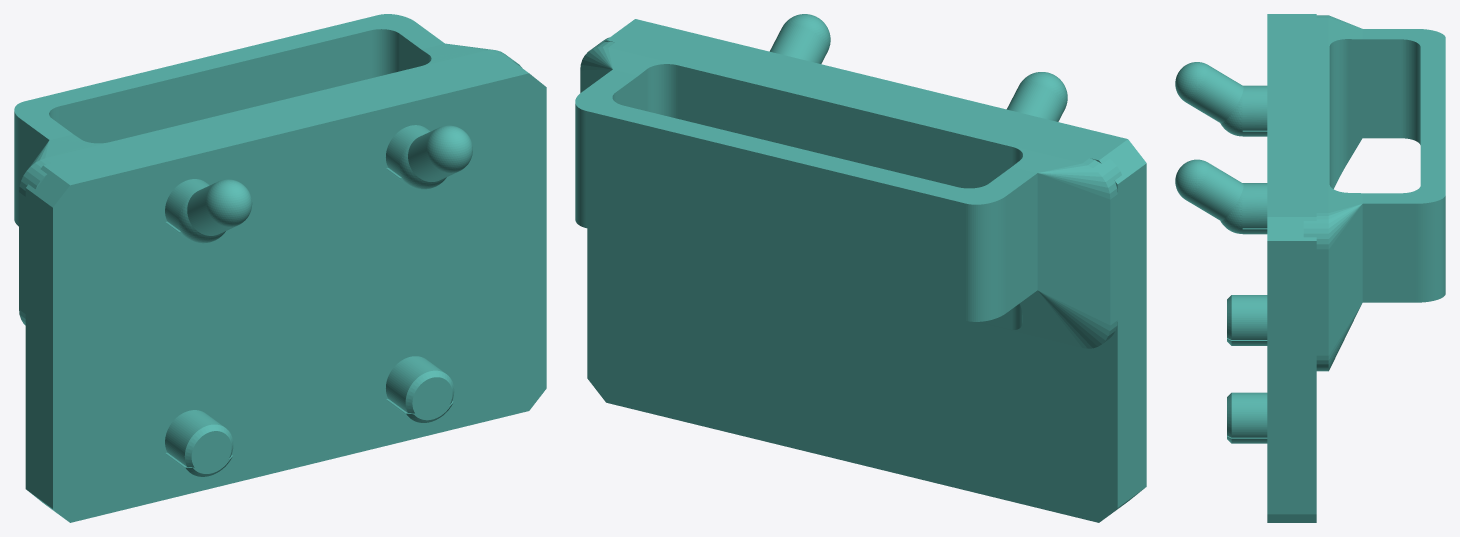
Rendered from part-pegstr-p10__v2__pegstr-p10-low-rectangular-slot__installed__fit-9c7be3cc78.glb.
3 views of the same model, side by side, from view 1: azimuth 30°, elevation 25°; view 2: azimuth 150°, elevation 25°; view 3: azimuth 270°, elevation 25° (orthographic). The views are drawn at different scales.
Visible parts, largest first — view 1: Actual holder mesh; view 2: Actual holder mesh; view 3: Actual holder mesh.
Boxes of the visible parts, x1,y1,x2,y2 form: Actual holder mesh: (14, 14, 546, 522); Actual holder mesh: (575, 14, 1146, 522); Actual holder mesh: (1175, 14, 1445, 522).
Bounding box in the file's own units: 0.0568 × 0.0374 × 0.0297.
